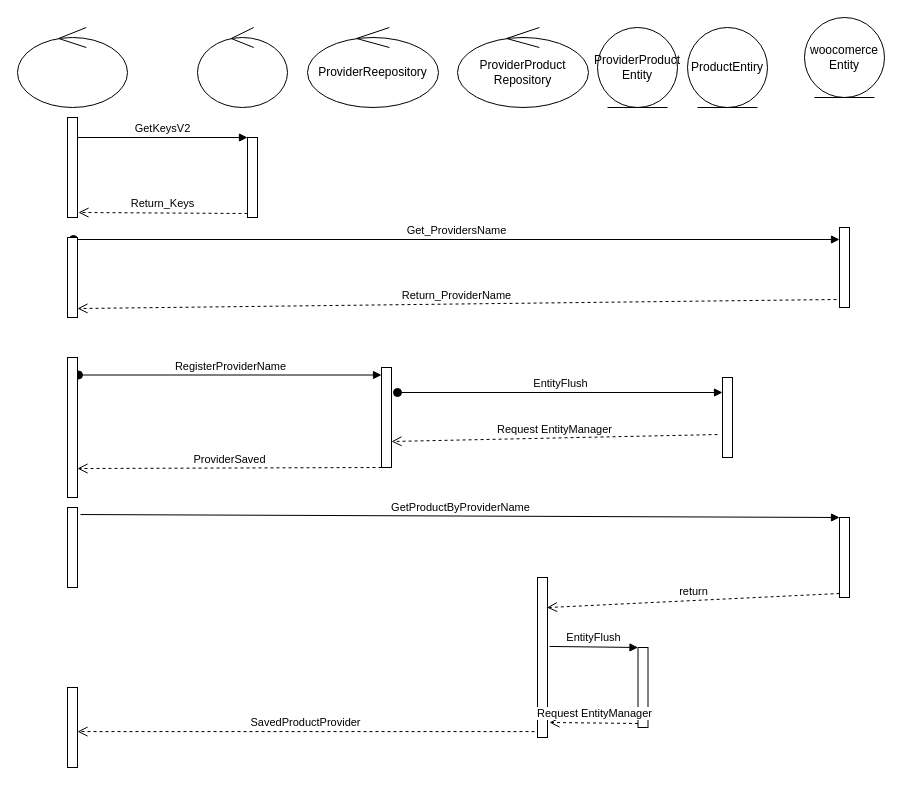
This 902x785 diagram has some shape labels left out. Here are the shapes that lost their labels. From the top down, the centre of each, then its label:
At point 72,67: "ProviderController".
At point 242,67: "KeyController".
